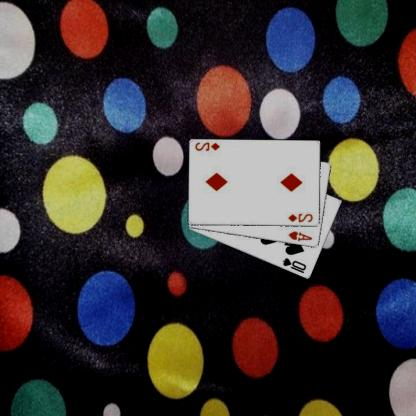10S: (282, 256, 309, 274)
2D: (195, 140, 223, 152), (288, 212, 316, 223)
AH: (288, 229, 315, 243)
